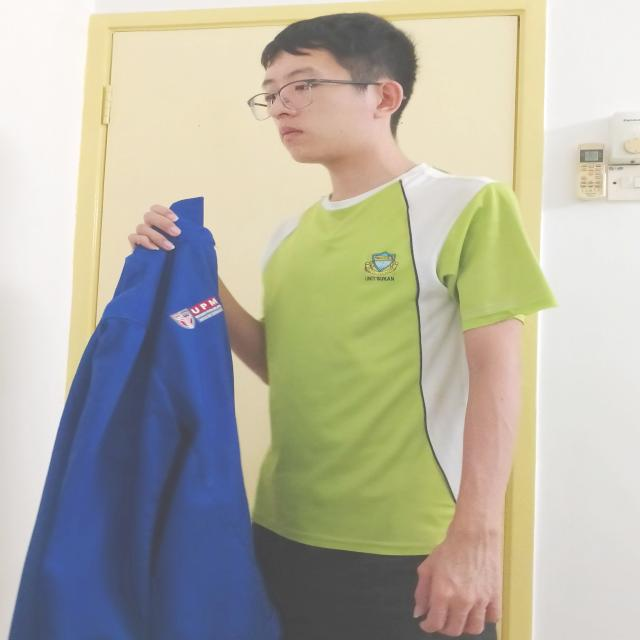person_without_labcoat: (9, 13, 556, 640)
